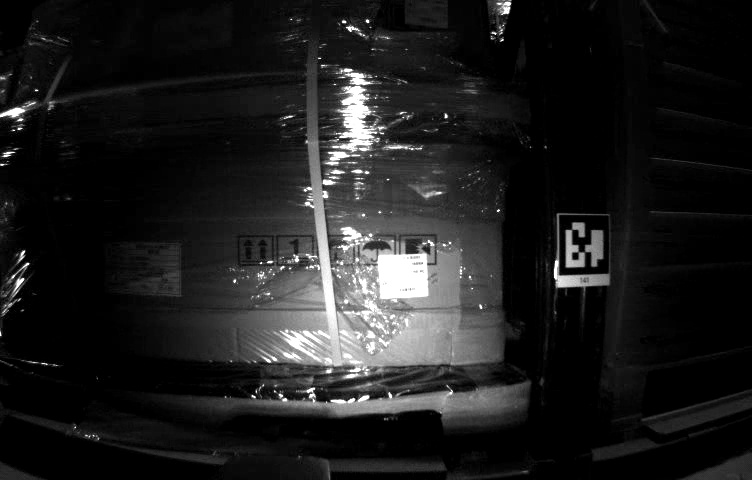True Barcode: (377, 253, 430, 298)
